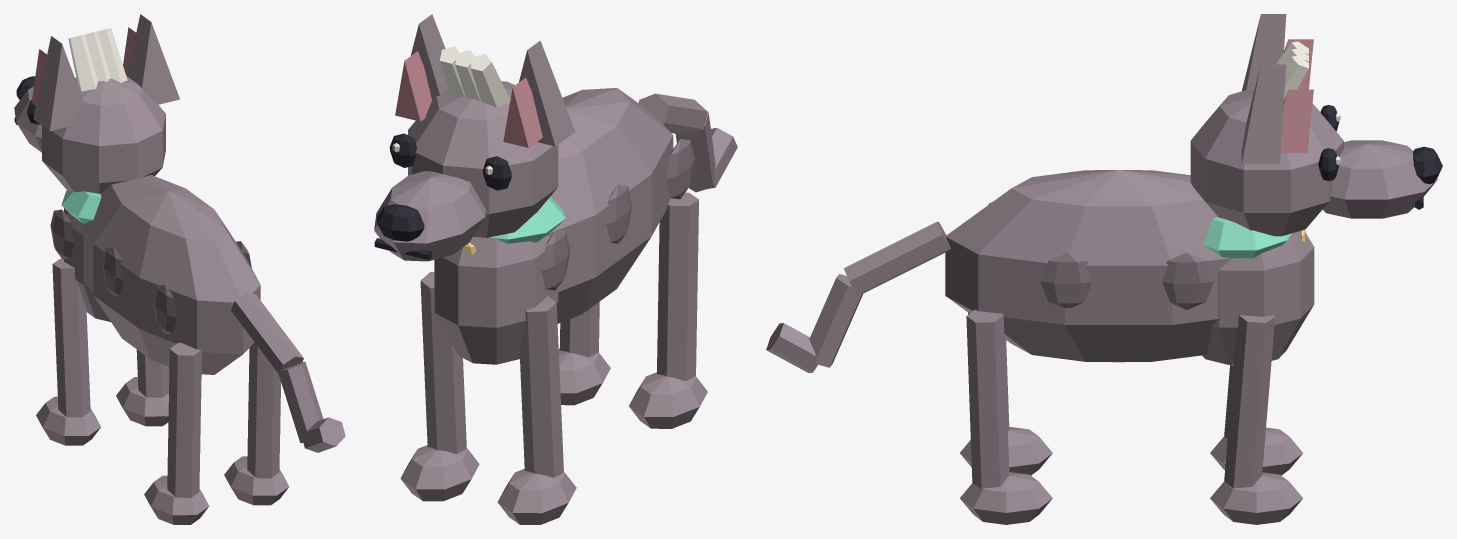
Rendered from peruvian_inca_orchid.glb.
3 views of the same model, side by side, from view 1: azimuth 30°, elevation 25°; view 2: azimuth 150°, elevation 25°; view 3: azimuth 270°, elevation 25° (orthographic). The views are drawn at different scales.
Parts seen in each view (by area): view 1: BodyMesh, HeadMesh; view 2: BodyMesh, HeadMesh; view 3: BodyMesh, HeadMesh.
Part boxes in pixels (x1,y1,x2,y2): BodyMesh: (36,175,345,524); HeadMesh: (14,14,179,193); BodyMesh: (400,88,737,524); HeadMesh: (374,14,575,261); BodyMesh: (766,170,1314,524); HeadMesh: (1190,14,1442,236).
Bounding box in the file's own units: 0.416 × 1.2 × 1.6.
